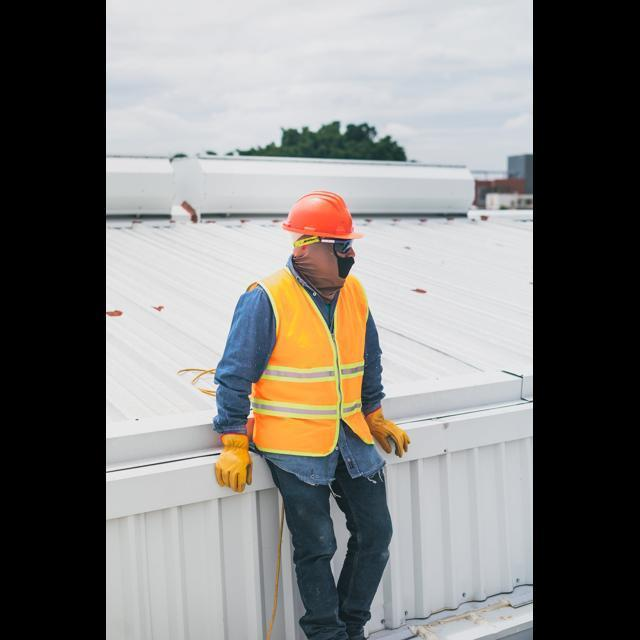helmet: (277, 180, 361, 252)
safety_vest: (226, 260, 402, 470)
